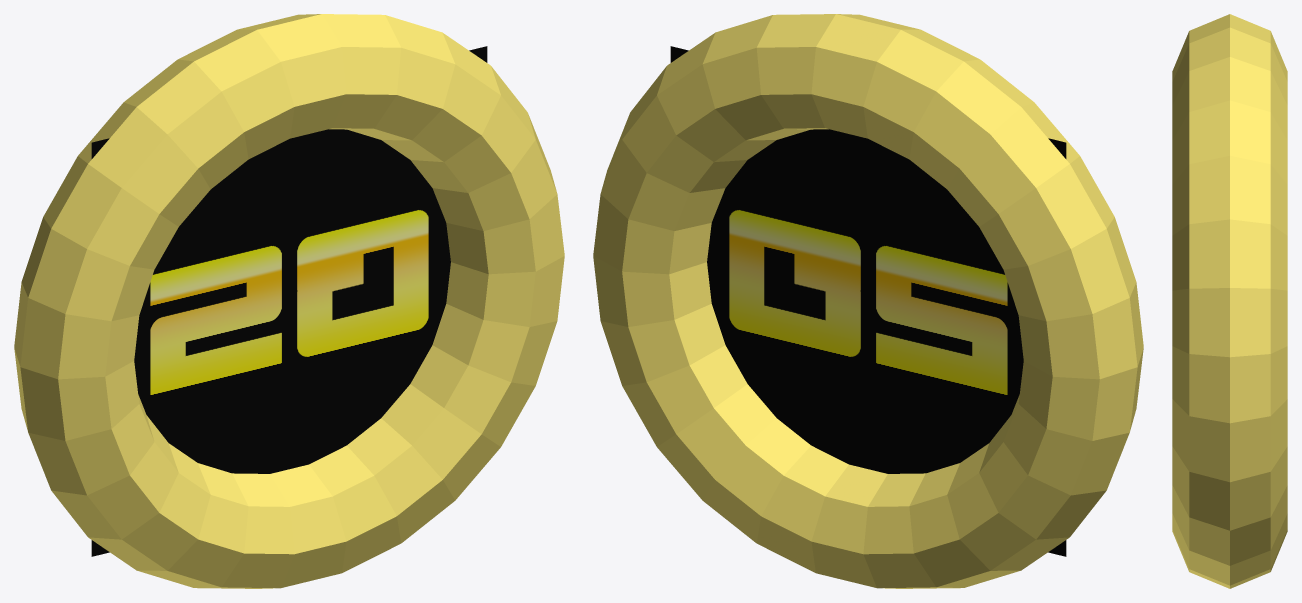
Rendered from ring_20.obj.
3 views of the same model, side by side, from view 1: azimuth 30°, elevation 25°; view 2: azimuth 150°, elevation 25°; view 3: azimuth 270°, elevation 25° (orthographic). The views are drawn at different scales.
Visible parts, largest first — view 1: ring_20_ring_5.001; view 2: ring_20_ring_5.001; view 3: ring_20_ring_5.001.
Part boxes in pixels (x1,y1,x2,y2): ring_20_ring_5.001: [14, 14, 564, 588]; ring_20_ring_5.001: [593, 14, 1143, 588]; ring_20_ring_5.001: [1172, 14, 1287, 588].
Size of the model in its own units: 4.62 by 4.59 by 0.9243.
2 materials, 2 textured.
